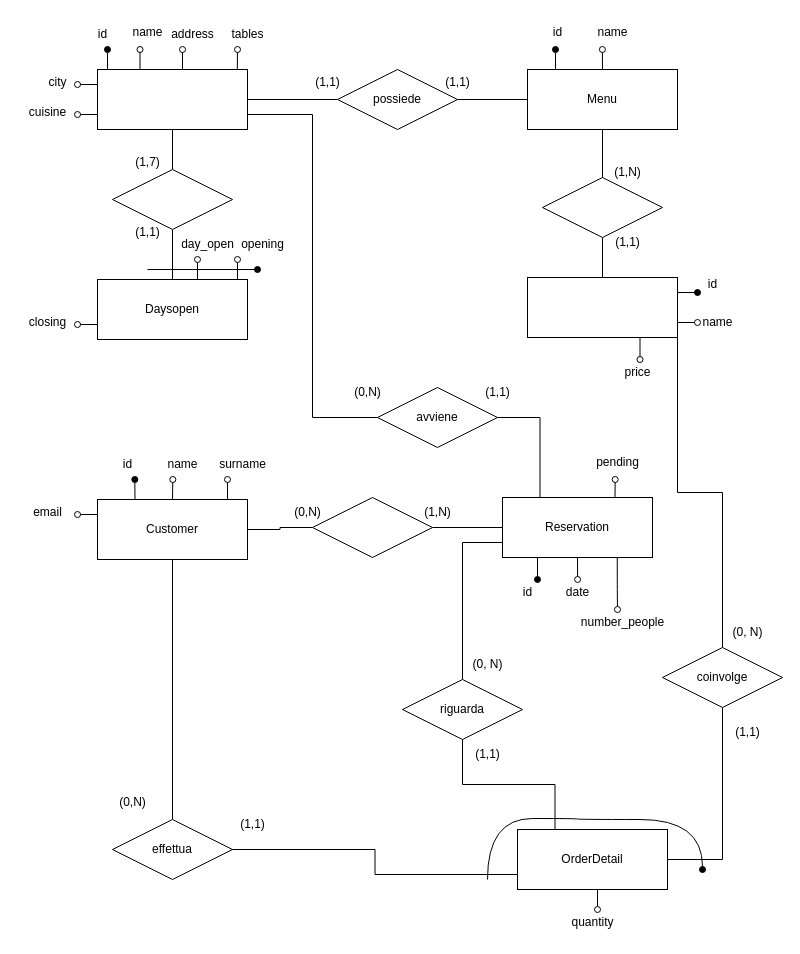
Some shapes in this 800 by 954 pixel diagram are drawn without their labels. The shapes that lost their labels are listed below. From the top down, each one's centre as x and y in pixels, then its label:
the point at 172,99: Restaurant
the point at 172,199: apre
the point at 602,207: contiene
the point at 602,307: Food
the point at 372,527: prenota
